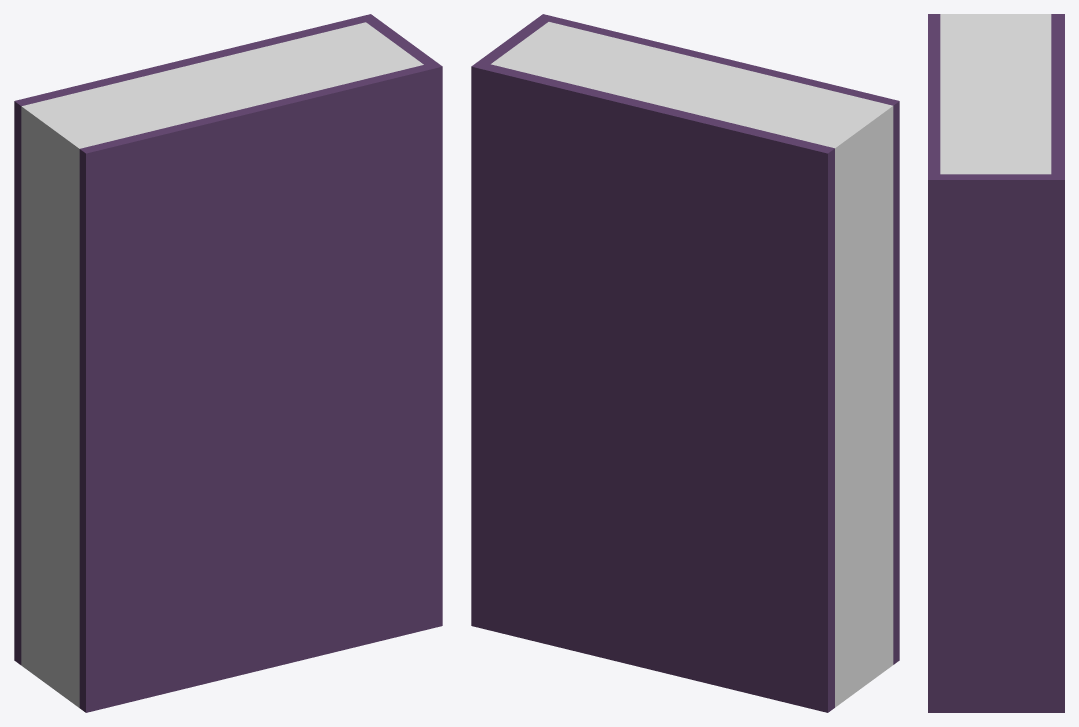
Rendered from BookPurple.fbx.
The picture shows the model from 3 angles, left to right: view 1: azimuth 30°, elevation 25°; view 2: azimuth 150°, elevation 25°; view 3: azimuth 270°, elevation 25°; orthographic projection. The views are drawn at different scales.
Visible parts, largest first — view 1: BookPurple; view 2: BookPurple; view 3: BookPurple.
Part boxes in pixels (x1=…): BookPurple: x1=14, y1=14, x2=442, y2=712; BookPurple: x1=471, y1=14, x2=899, y2=712; BookPurple: x1=928, y1=14, x2=1064, y2=712.
Bounding box in the file's own units: 21.12 × 31.65 × 7.37.
